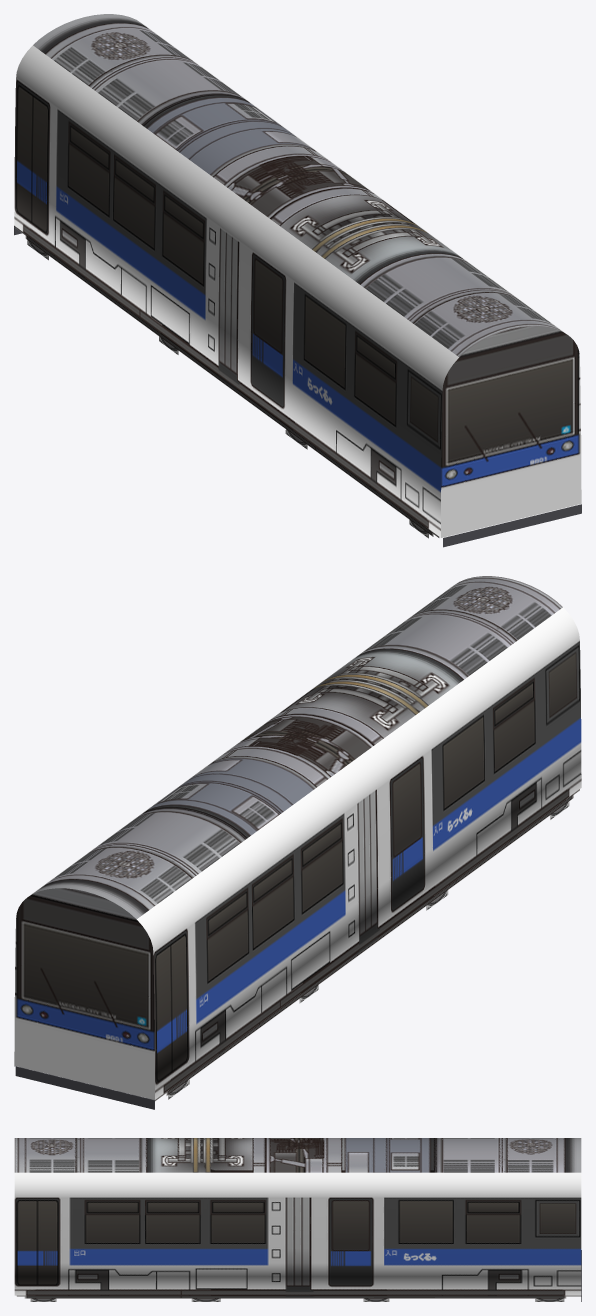
Rendered from car1.glb.
3 views of the same model, one above another, from view 1: azimuth 30°, elevation 25°; view 2: azimuth 150°, elevation 25°; view 3: azimuth 270°, elevation 25° (orthographic). The views are drawn at different scales.
Parts seen in each view (by area): view 1: hakodatesiden9600-car1; view 2: hakodatesiden9600-car1; view 3: hakodatesiden9600-car1.
Boxes of the visible parts, left/top/right/bottom form: hakodatesiden9600-car1: left=14, top=14, right=581, bottom=547; hakodatesiden9600-car1: left=14, top=576, right=581, bottom=1109; hakodatesiden9600-car1: left=14, top=1138, right=581, bottom=1301.
Size of the model in its own units: 2.34 by 3.2 by 12.33.
8 materials, 7 textured.
